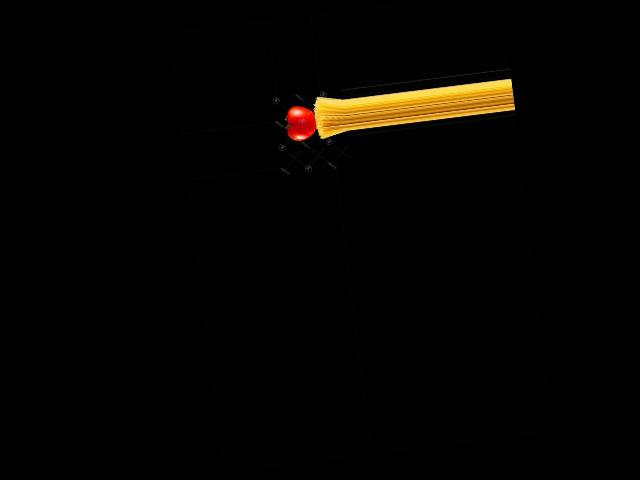tomato: (284, 104, 318, 141)
